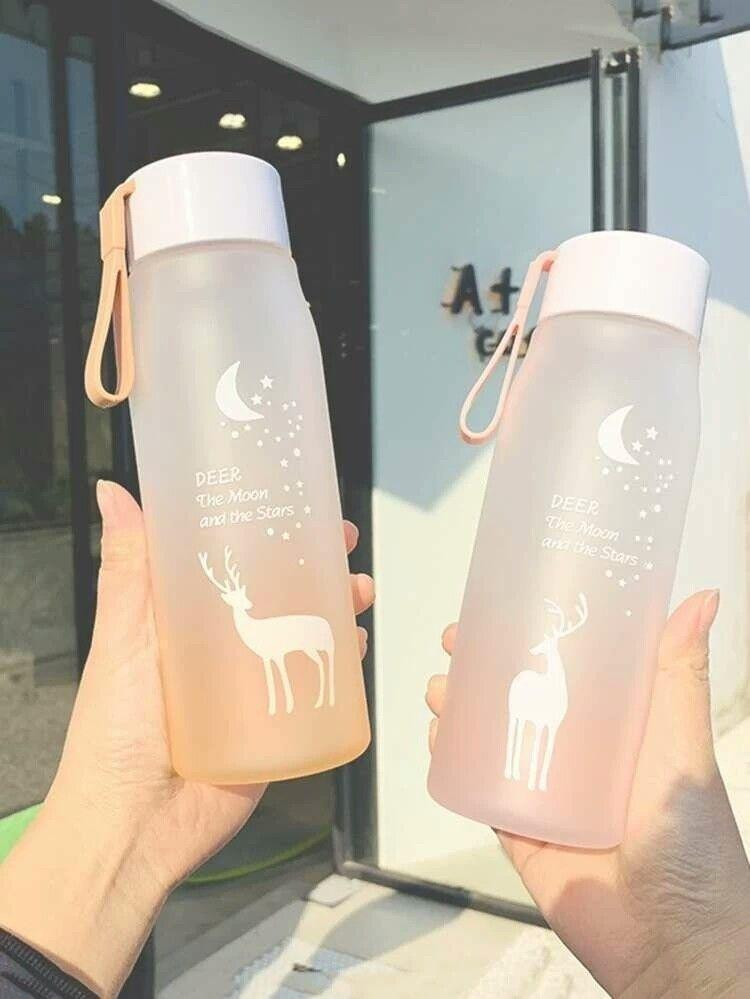gym bottle: (74, 146, 370, 788), (421, 228, 717, 847)
